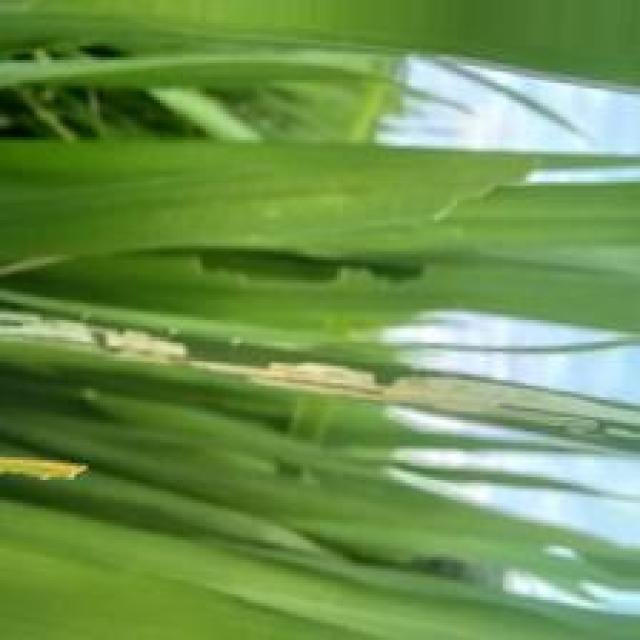Rice_Hispa: (0, 308, 640, 431)
